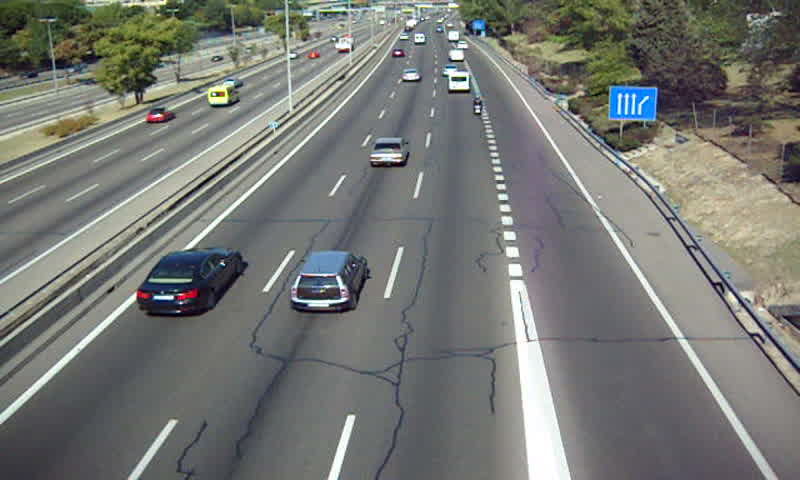car: (136, 248, 241, 317), (291, 251, 365, 313), (368, 137, 408, 166), (402, 67, 420, 82), (442, 64, 456, 77)
motorcycle: (472, 95, 485, 115)
van: (448, 70, 470, 93), (450, 50, 466, 62)
